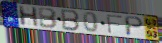0: (82, 11, 100, 34)
B: (61, 8, 81, 33), (37, 8, 59, 30)
F: (106, 14, 124, 35)
H: (17, 5, 40, 27)
P: (124, 15, 145, 37)
